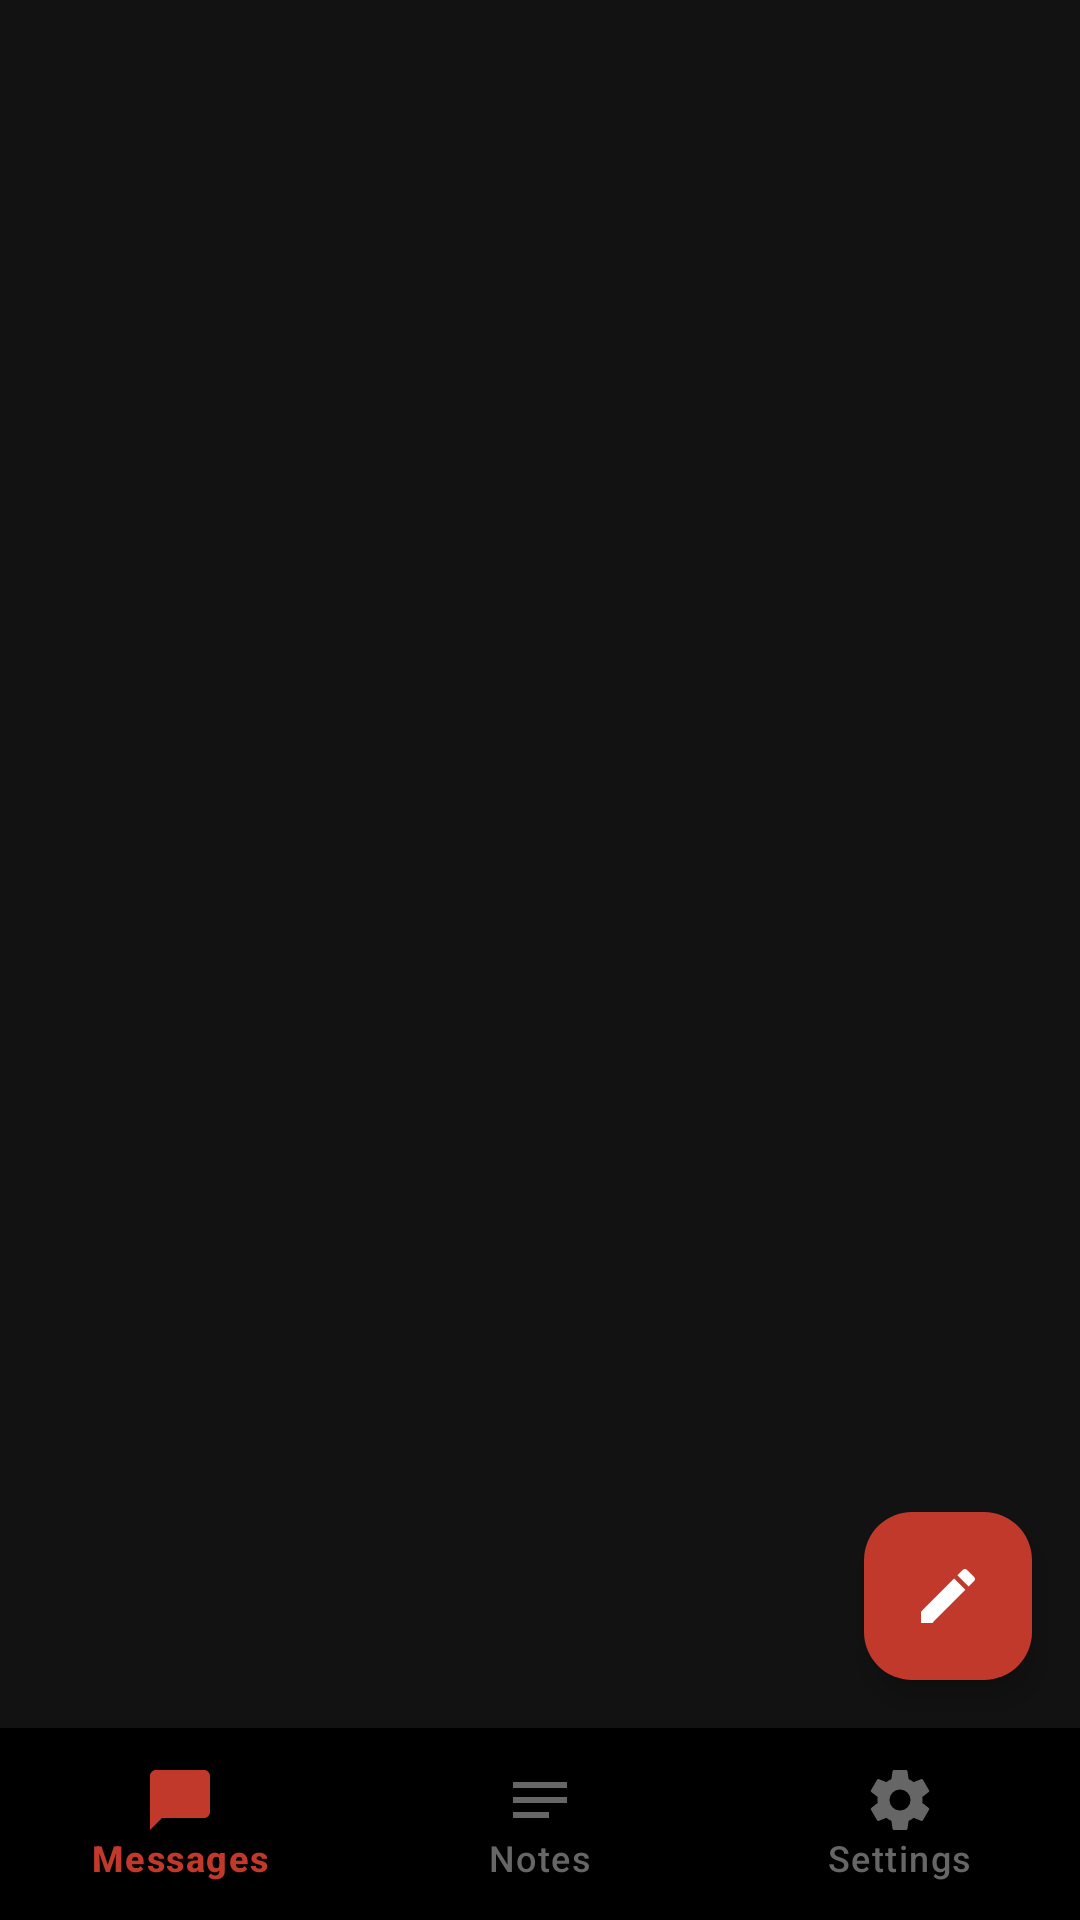

Named icons in this screenshot (1080 x 1920) and their bounding boxes, bbox(x1, y1, x2, y2):
New message: bbox(864, 1512, 1032, 1680)
